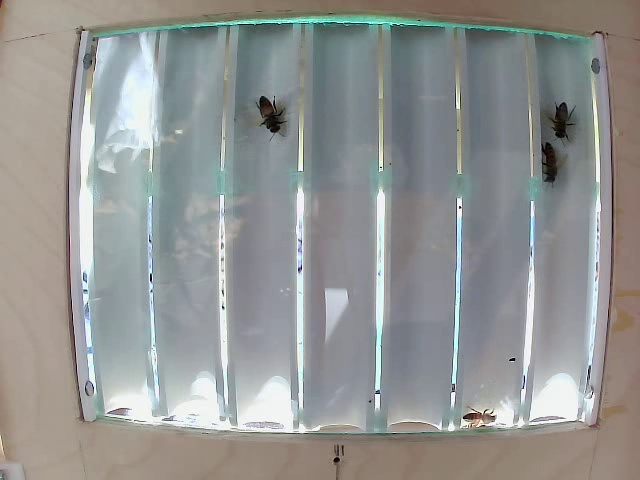bee: (533, 133, 561, 193), (255, 86, 277, 142), (552, 97, 582, 135)
